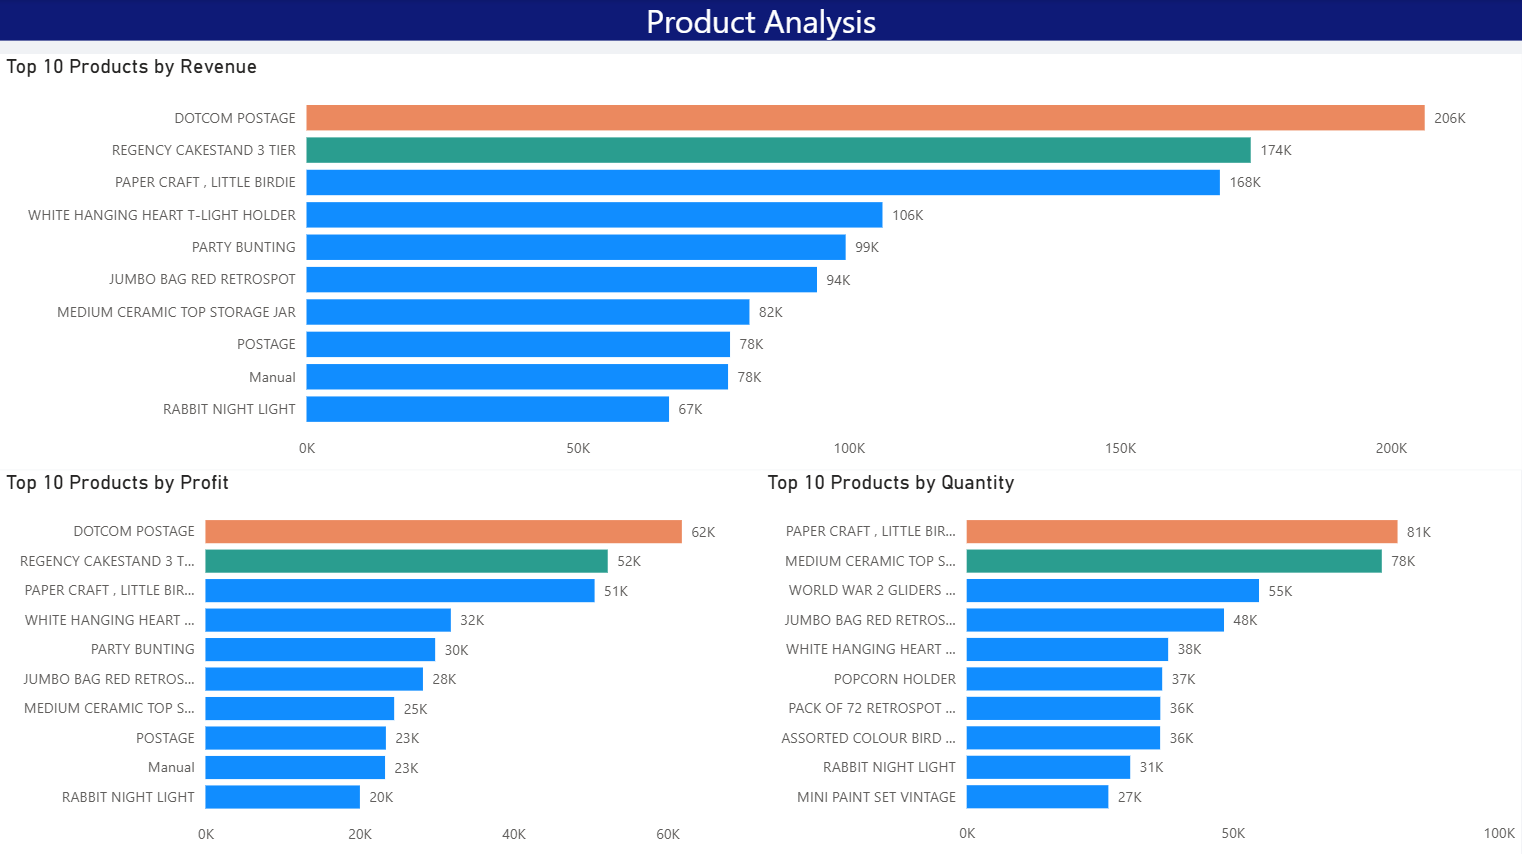

This screenshot's page, from the dashboard's own definition file:
{"tool":"powerbi","page":{"name":"Product Analysis","canvas":[1280,720],"ordinal":1},"visuals":[{"type":"barChart","title":"Top 10 Products by Revenue","fields":{"Category":["cleaned_retail_data.Description"],"Y":["Sum(cleaned_retail_data.Revenue)"]},"box":[0,46.7,1280.3,349.9],"z":0},{"type":"clusteredBarChart","title":"Top 10 Products by Profit","fields":{"Category":["cleaned_retail_data.Description"],"Y":["Sum(cleaned_retail_data.Profit)"]},"box":[0,396.3,641.4,324.1],"z":1000},{"type":"clusteredBarChart","title":"Top 10 Products by Quantity","fields":{"Category":["cleaned_retail_data.Description"],"Y":["Sum(cleaned_retail_data.Quantity)"]},"box":[640.8,396.6,639.5,323.8],"z":2000},{"type":"shape","box":[0,0,1280.5,31.6],"z":3000}]}

Visuals, with their boxes in screenshot pixels (x1, y1, x2, y2), scaled from the page's 1280x720 canvas onto the 1522x854 screenshot:
"Top 10 Products by Revenue" barChart: 0,55,1521,470
"Top 10 Products by Profit" clusteredBarChart: 0,470,763,853
"Top 10 Products by Quantity" clusteredBarChart: 762,470,1521,853
shape: 0,0,1521,37
